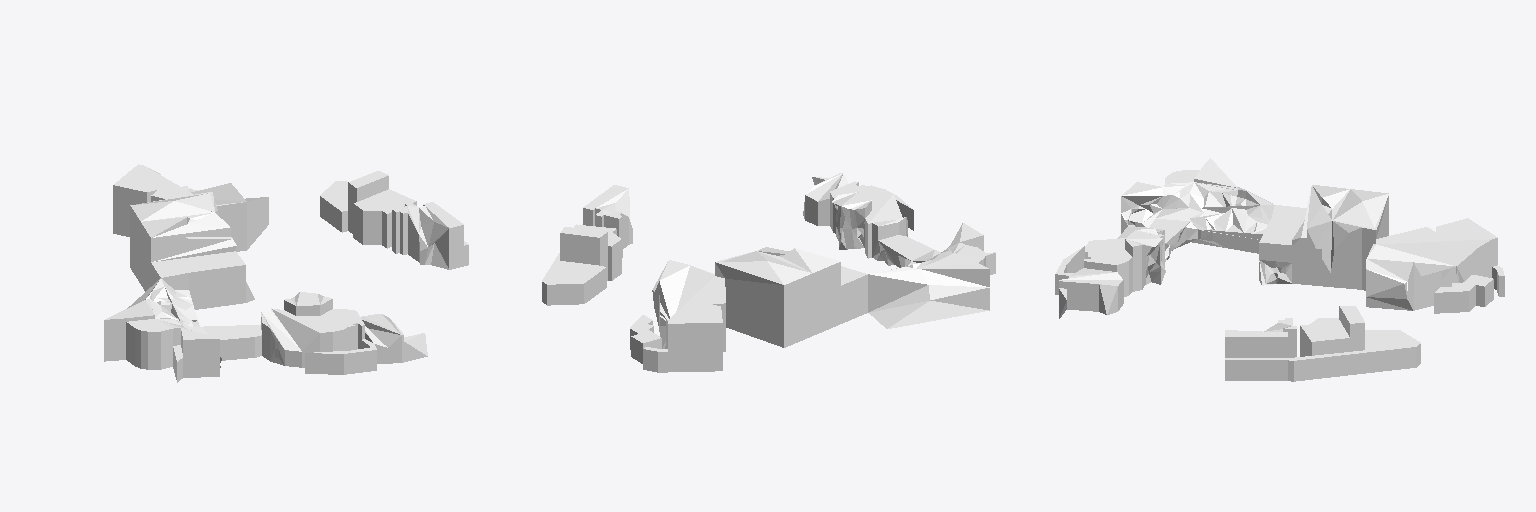
File: castle03.obj
3 renders of one model, left to right at view 1: azimuth 30°, elevation 25°; view 2: azimuth 150°, elevation 25°; view 3: azimuth 270°, elevation 25°, orthographic.
Parts seen in each view (by area): view 1: group_0_ID4; view 2: group_0_ID4; view 3: group_0_ID4.
Part boxes in pixels (bbox=[...]): group_0_ID4: bbox=[104, 164, 468, 382]; group_0_ID4: bbox=[542, 173, 995, 372]; group_0_ID4: bbox=[1055, 158, 1504, 381].
Size of the model in its own units: 97.89 by 17.47 by 102.